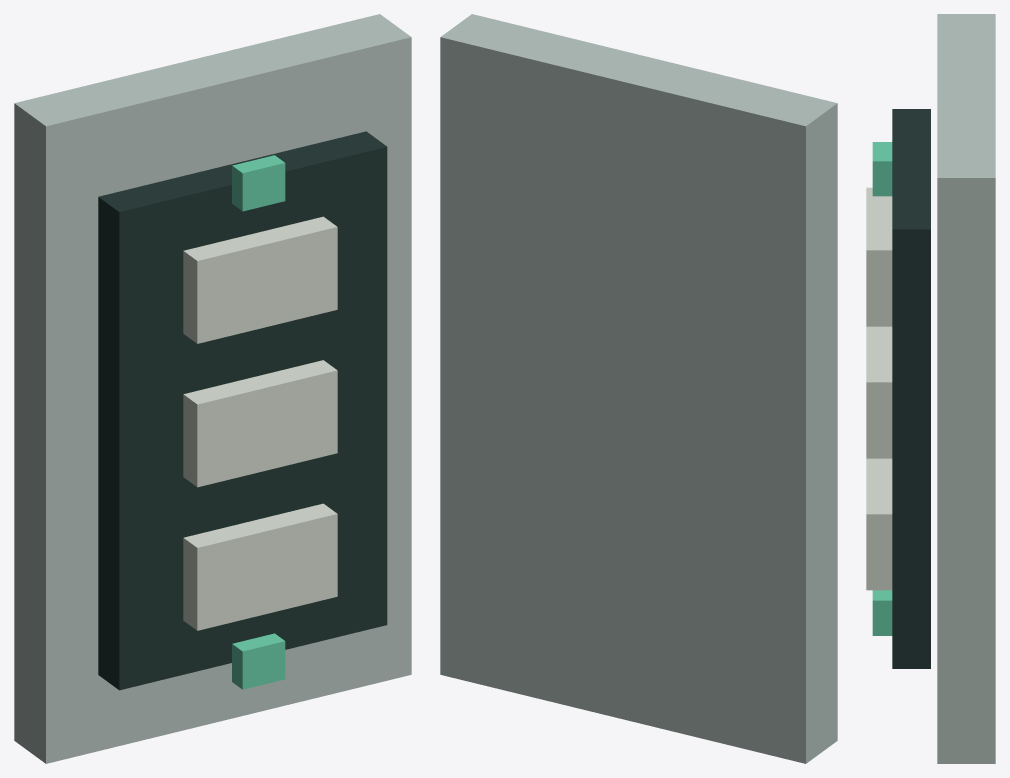
The picture shows the model from 3 angles, left to right: view 1: azimuth 30°, elevation 25°; view 2: azimuth 150°, elevation 25°; view 3: azimuth 270°, elevation 25°; orthographic projection. The views are drawn at different scales.
Visible parts, largest first — view 1: back-plate, inset, key-bottom, key-mid, key-top, status-led (×2); view 2: back-plate; view 3: back-plate, inset, key-top, key-mid, key-bottom, status-led (×2).
Part boxes in pixels (left/top/right/bottom): back-plate: left=14, top=14, right=411, bottom=763; inset: left=98, top=131, right=387, bottom=690; key-bottom: left=183, top=503, right=337, bottom=630; key-mid: left=183, top=360, right=337, bottom=487; key-top: left=183, top=216, right=337, bottom=343; status-led (×2): left=232, top=155, right=285, bottom=689; back-plate: left=440, top=14, right=837, bottom=763; back-plate: left=937, top=14, right=995, bottom=763; inset: left=892, top=109, right=930, bottom=668; key-top: left=866, top=187, right=892, bottom=326; key-mid: left=866, top=326, right=892, bottom=458; key-bottom: left=866, top=458, right=892, bottom=590; status-led (×2): left=872, top=142, right=892, bottom=635.
Bounding box in the file's own units: 0.12 × 0.2 × 0.04.
